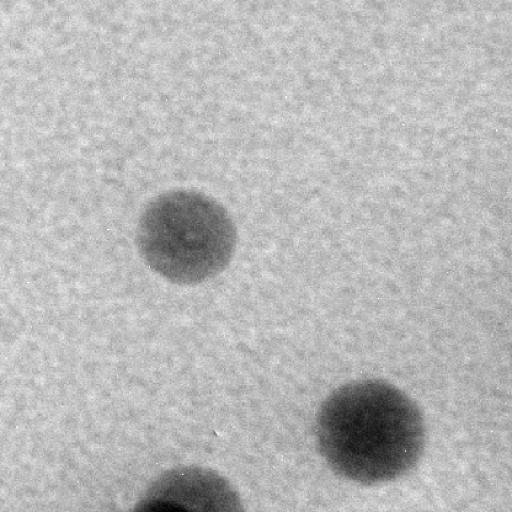Nanoparticles: (313, 376, 429, 482), (135, 186, 239, 284), (127, 466, 244, 512)
